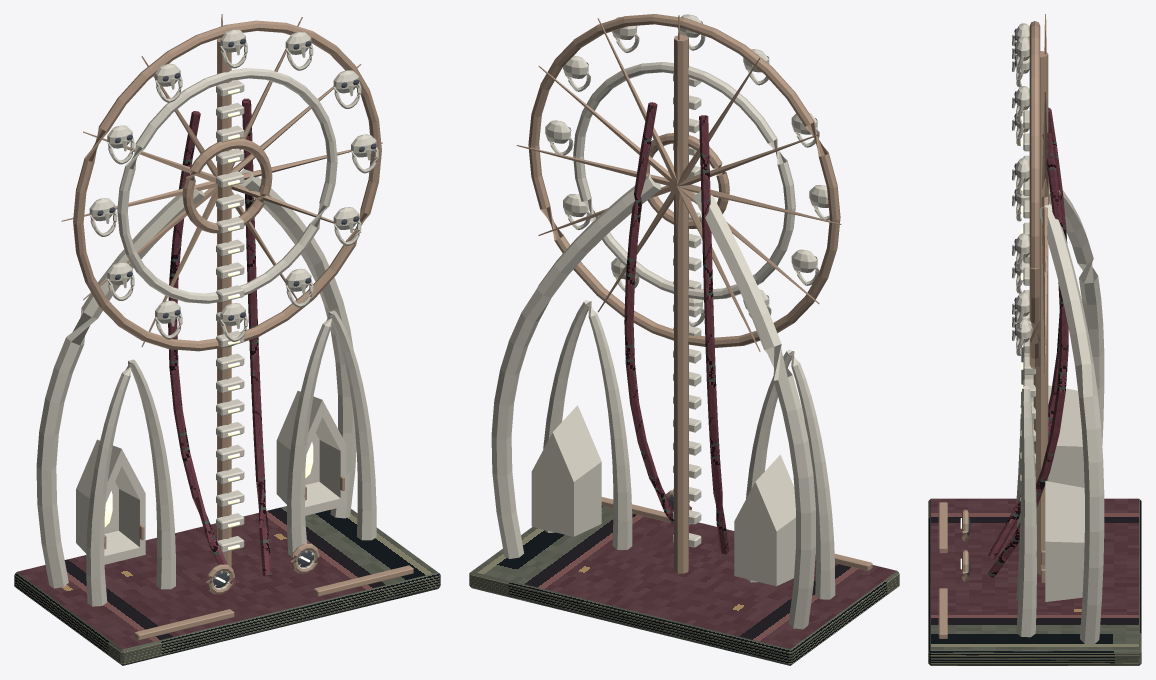
Rendered from reliquary_face_halo.glb.
The picture shows the model from 3 angles, left to right: view 1: azimuth 30°, elevation 25°; view 2: azimuth 150°, elevation 25°; view 3: azimuth 270°, elevation 25°; orthographic projection. The views are drawn at different scales.
Parts seen in each view (by area): view 1: reliquary_face_halo_warm, reliquary_face_halo_petrol, reliquary_face_halo_worn, reliquary_face_halo_bruised, reliquary_face_halo_sick, reliquary_face_halo_deep; view 2: reliquary_face_halo_warm, reliquary_face_halo_petrol, reliquary_face_halo_worn, reliquary_face_halo_bruised; view 3: reliquary_face_halo_warm, reliquary_face_halo_petrol, reliquary_face_halo_worn, reliquary_face_halo_bruised, reliquary_face_halo_deep.
Part boxes in pixels (x1=…): reliquary_face_halo_warm: x1=36, y1=29, x2=378, y2=606; reliquary_face_halo_petrol: x1=14, y1=506, x2=440, y2=665; reliquary_face_halo_worn: x1=61, y1=14, x2=413, y2=640; reliquary_face_halo_bruised: x1=168, y1=98, x2=271, y2=583; reliquary_face_halo_sick: x1=104, y1=88, x2=313, y2=582; reliquary_face_halo_deep: x1=97, y1=38, x2=376, y2=587; reliquary_face_halo_warm: x1=491, y1=14, x2=835, y2=629; reliquary_face_halo_petrol: x1=469, y1=506, x2=899, y2=665; reliquary_face_halo_worn: x1=516, y1=14, x2=872, y2=573; reliquary_face_halo_bruised: x1=624, y1=102, x2=729, y2=554; reliquary_face_halo_warm: x1=962, y1=23, x2=1104, y2=644; reliquary_face_halo_petrol: x1=928, y1=498, x2=1141, y2=665; reliquary_face_halo_worn: x1=938, y1=14, x2=1049, y2=638; reliquary_face_halo_bruised: x1=988, y1=107, x2=1068, y2=577; reliquary_face_halo_deep: x1=967, y1=28, x2=1017, y2=575.
Size of the model in its own units: 4.86 by 8.26 by 2.85.
Materials: 6 (2 with a texture image).
